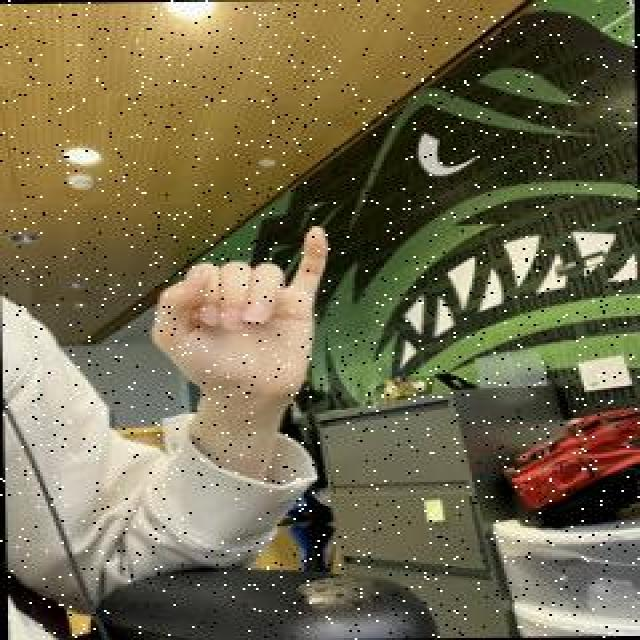I: (140, 221, 335, 405)
